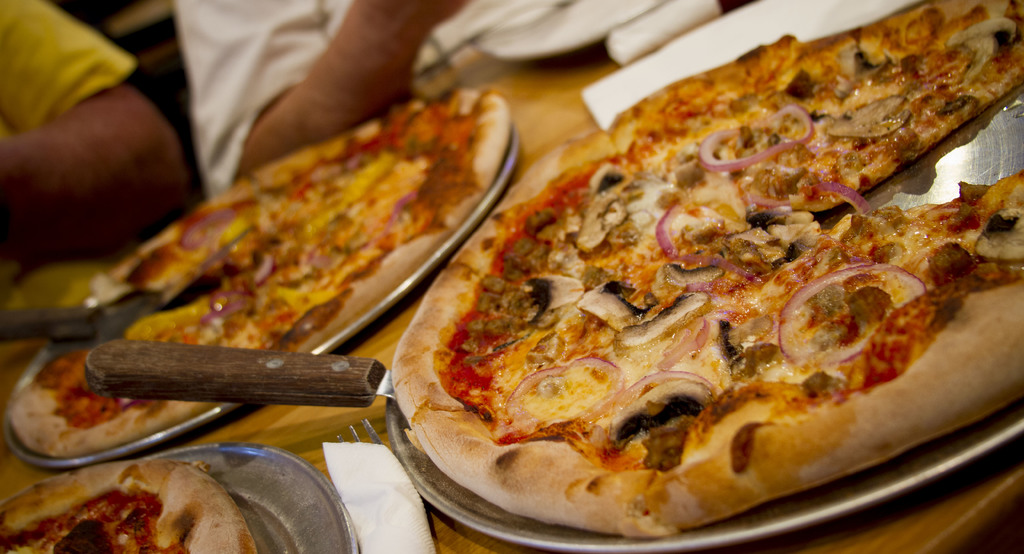Pizza: (377, 51, 1024, 554), (8, 85, 506, 463), (0, 455, 266, 553)
